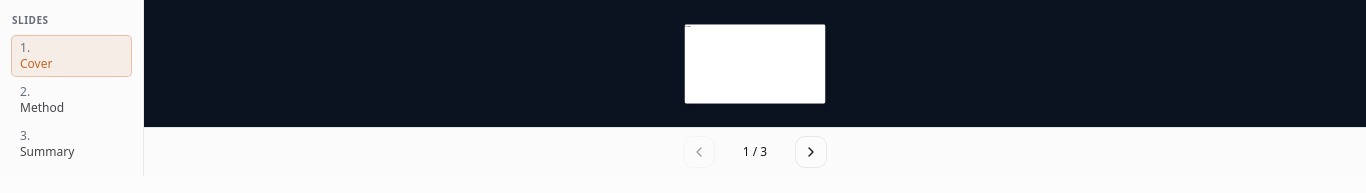
Scenario: PptxArtifactPreview › jumps to a slide via the thumbnail rail
Expected: the text "1 / 3" is shown, [743,143,767,160]
What coordinates should you click on to do the following:
click the button with aria-label "go to slide"
I would click on:
 (72, 144)
Its box is [12,124,131,164].
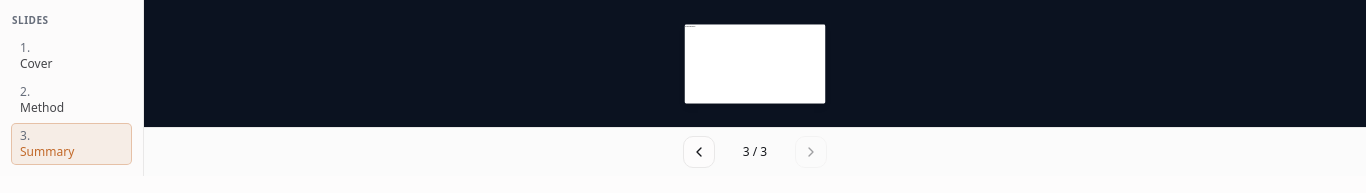
Expected: the text "3 / 3" is shown, [743,143,767,160]
